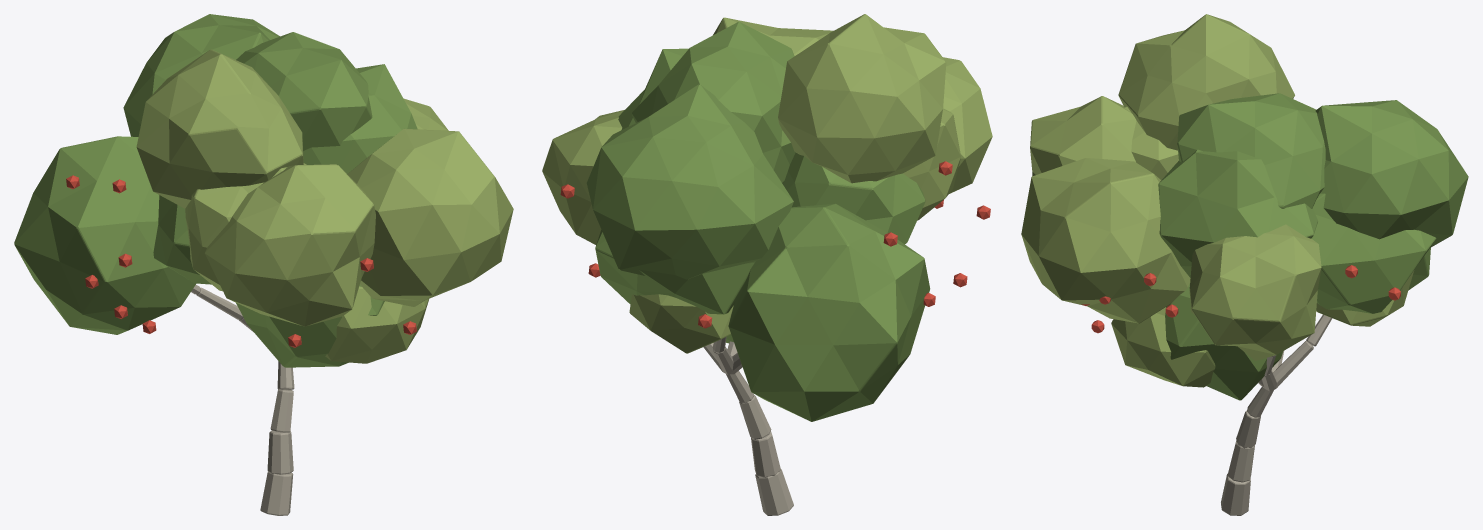
Rendered from FruitTreeA.fbx.
The picture shows the model from 3 angles, left to right: view 1: azimuth 30°, elevation 25°; view 2: azimuth 150°, elevation 25°; view 3: azimuth 270°, elevation 25°; orthographic projection. The views are drawn at different scales.
Parts seen in each view (by area): view 1: FruitTreeA; view 2: FruitTreeA; view 3: FruitTreeA.
Boxes of the visible parts, x1=… form: FruitTreeA: x1=14, y1=14, x2=513, y2=515; FruitTreeA: x1=542, y1=14, x2=992, y2=515; FruitTreeA: x1=1021, y1=14, x2=1468, y2=515.
Size of the model in its own units: 3.51 by 4.17 by 3.64.
